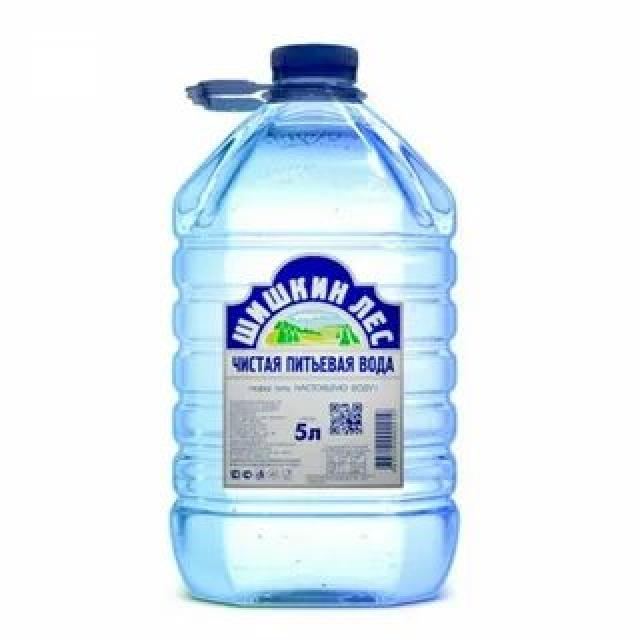blue: (172, 79, 456, 604)
